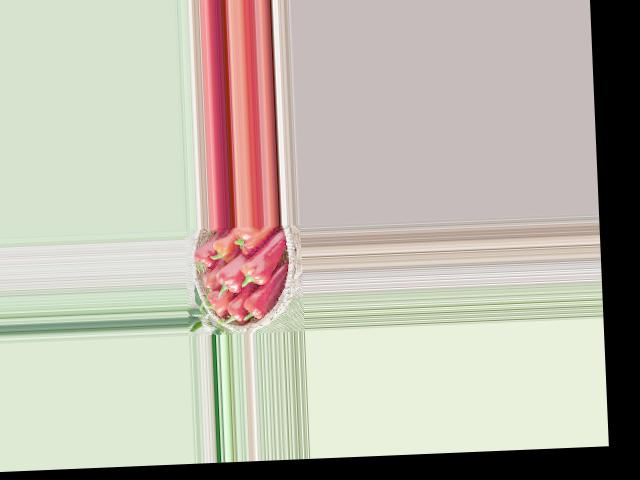bell_pepper: (222, 296, 248, 327)
